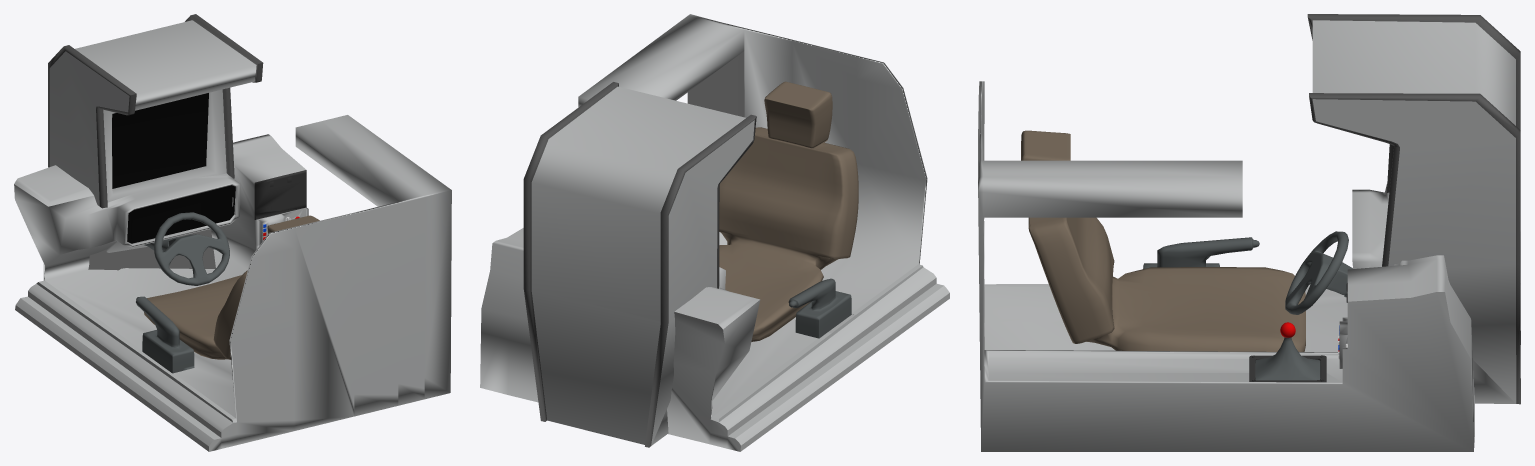
Rendered from DeloreanArcade.fbx.
The picture shows the model from 3 angles, left to right: view 1: azimuth 30°, elevation 25°; view 2: azimuth 150°, elevation 25°; view 3: azimuth 270°, elevation 25°; orthographic projection. The views are drawn at different scales.
Visible parts, largest first — view 1: polySurface4, polySurface3; view 2: polySurface4; view 3: polySurface4, polySurface3.
Boxes of the visible parts, <box> form: polySurface4: <box>14,14,451,451</box>; polySurface3: <box>154,212,229,285</box>; polySurface4: <box>480,14,949,451</box>; polySurface4: <box>978,14,1520,451</box>; polySurface3: <box>1285,231,1352,314</box>.
Size of the model in its own units: 24.43 by 24.19 by 37.27.
